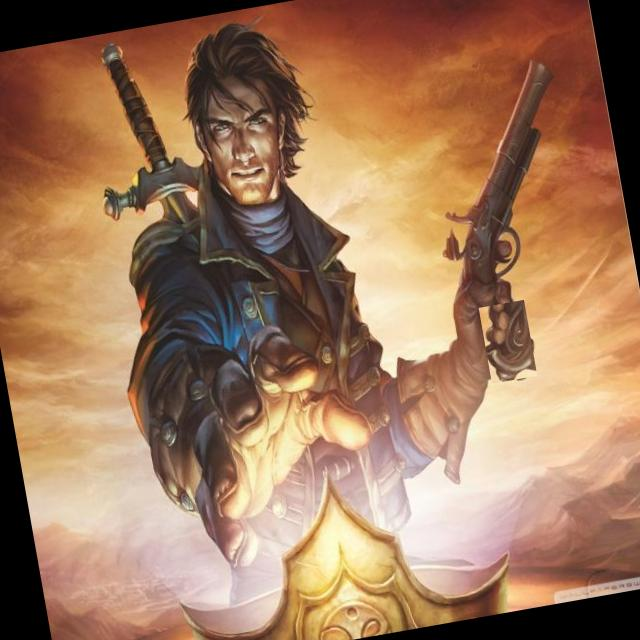Gun: (444, 59, 553, 284), (486, 300, 532, 381)
